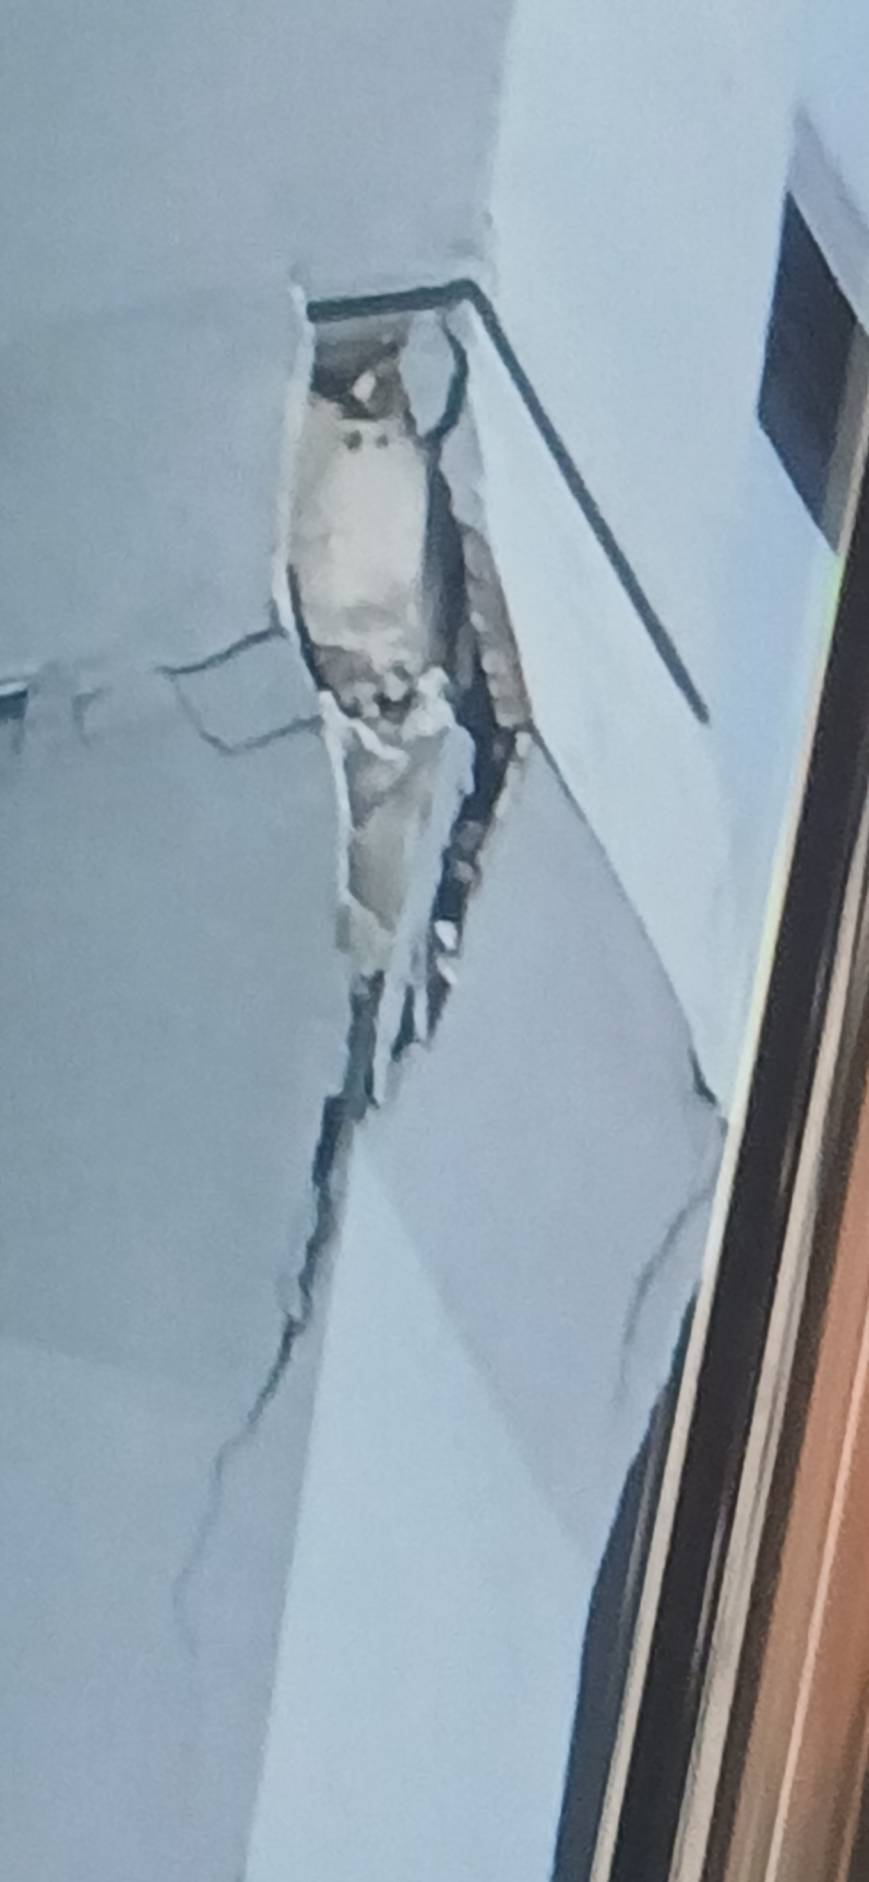High: (163, 228, 772, 1655)
